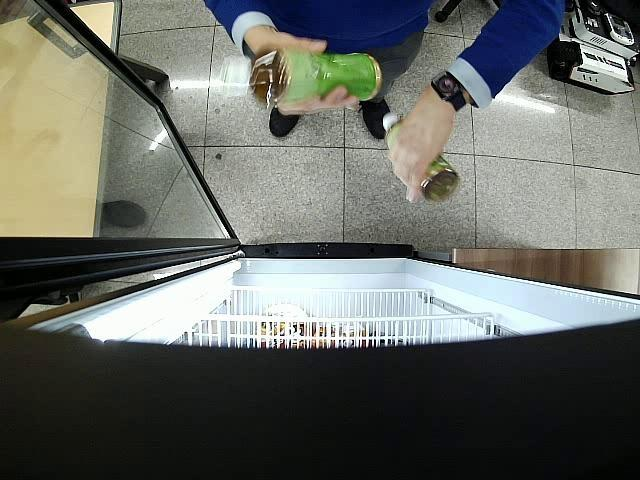19_17cha: (226, 48, 382, 102), (382, 112, 459, 202)
